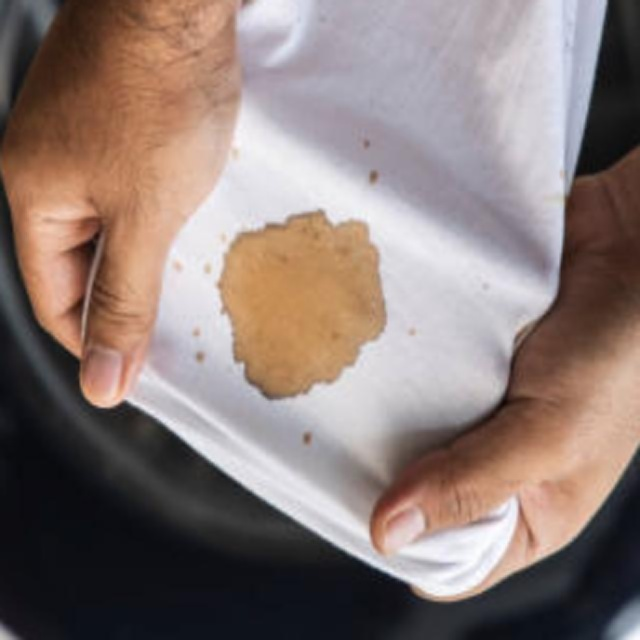coffee: (214, 210, 388, 404)
